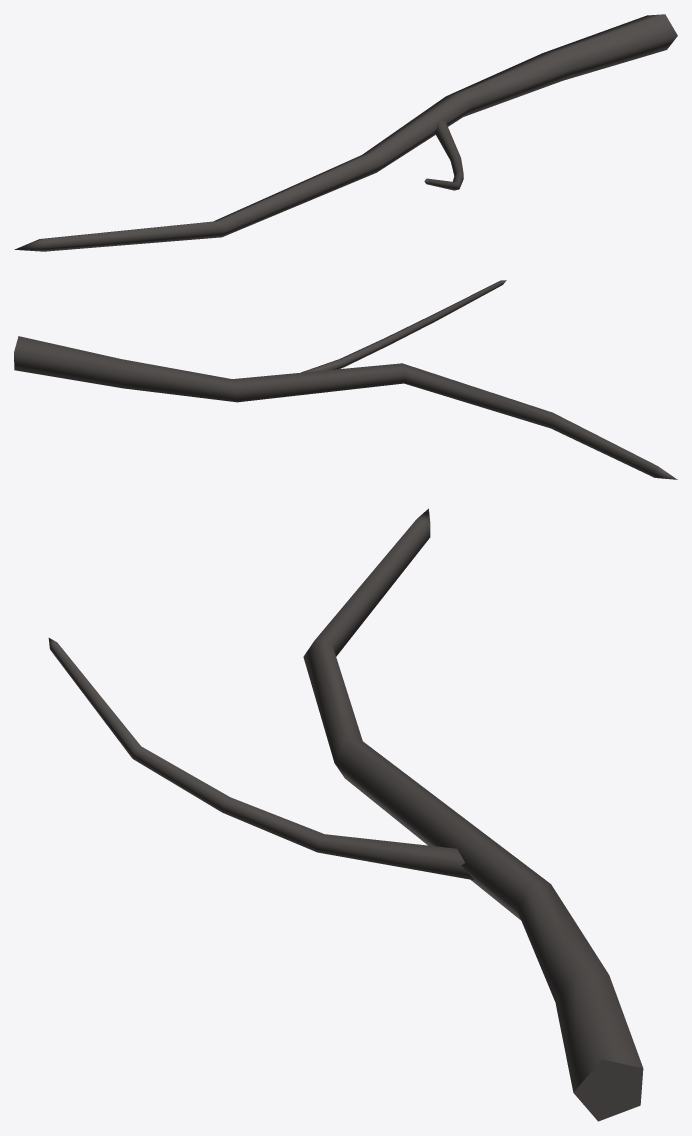
Rendered from P_branch_dead_02_LD.fbx.
The picture shows the model from 3 angles, top to bottom: view 1: azimuth 30°, elevation 25°; view 2: azimuth 150°, elevation 25°; view 3: azimuth 270°, elevation 25°; orthographic projection. The views are drawn at different scales.
Visible parts, largest first — view 1: P_branch_dead_02; view 2: P_branch_dead_02; view 3: P_branch_dead_02.
Part boxes in pixels (x1=…): P_branch_dead_02: x1=14, y1=14, x2=677, y2=251; P_branch_dead_02: x1=14, y1=280, x2=677, y2=479; P_branch_dead_02: x1=48, y1=508, x2=643, y2=1121.
Bounding box in the file's own units: 95.34 × 10.44 × 39.59.
